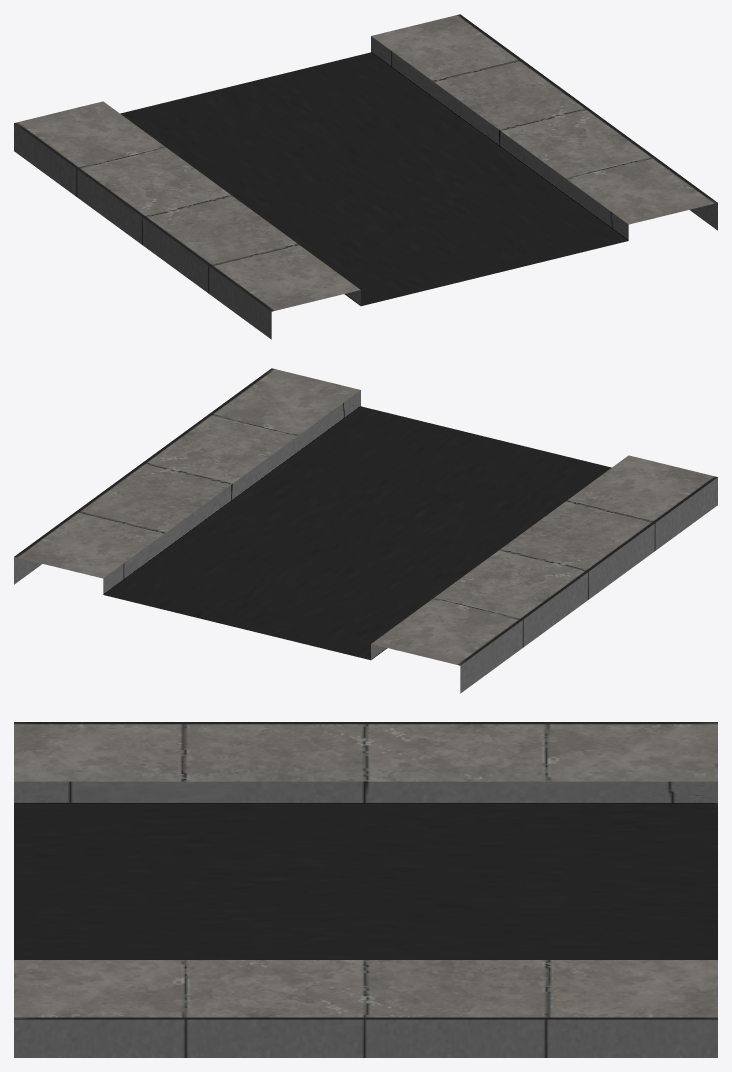
Rendered from 2L-str.fbx.
3 renders of one model, top to bottom at view 1: azimuth 30°, elevation 25°; view 2: azimuth 150°, elevation 25°; view 3: azimuth 270°, elevation 25°, orthographic. The views are drawn at different scales.
Parts seen in each view (by area): view 1: 2L-str_LOD0; view 2: 2L-str_LOD0; view 3: 2L-str_LOD0.
Boxes of the visible parts, left/top/right/bottom form: 2L-str_LOD0: left=14, top=14, right=717, bottom=339; 2L-str_LOD0: left=14, top=368, right=717, bottom=693; 2L-str_LOD0: left=14, top=722, right=717, bottom=1057.
Size of what is drawn, in the model's own units: 200 by 12 by 200.
